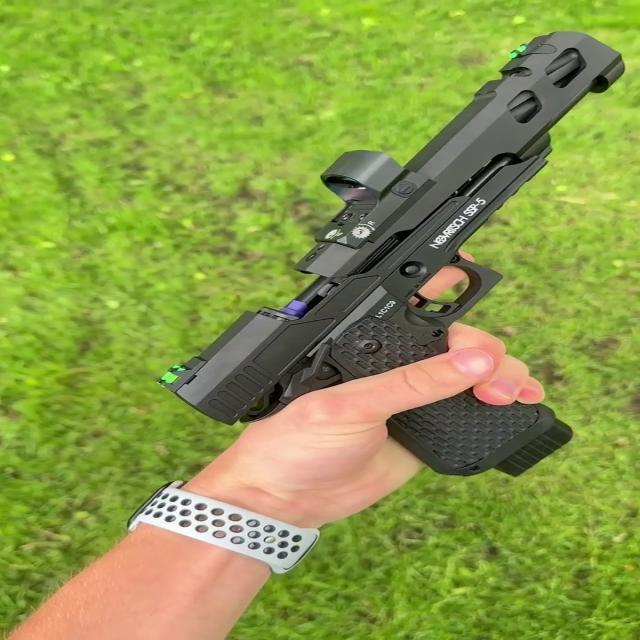Handgun: (148, 24, 634, 494)
